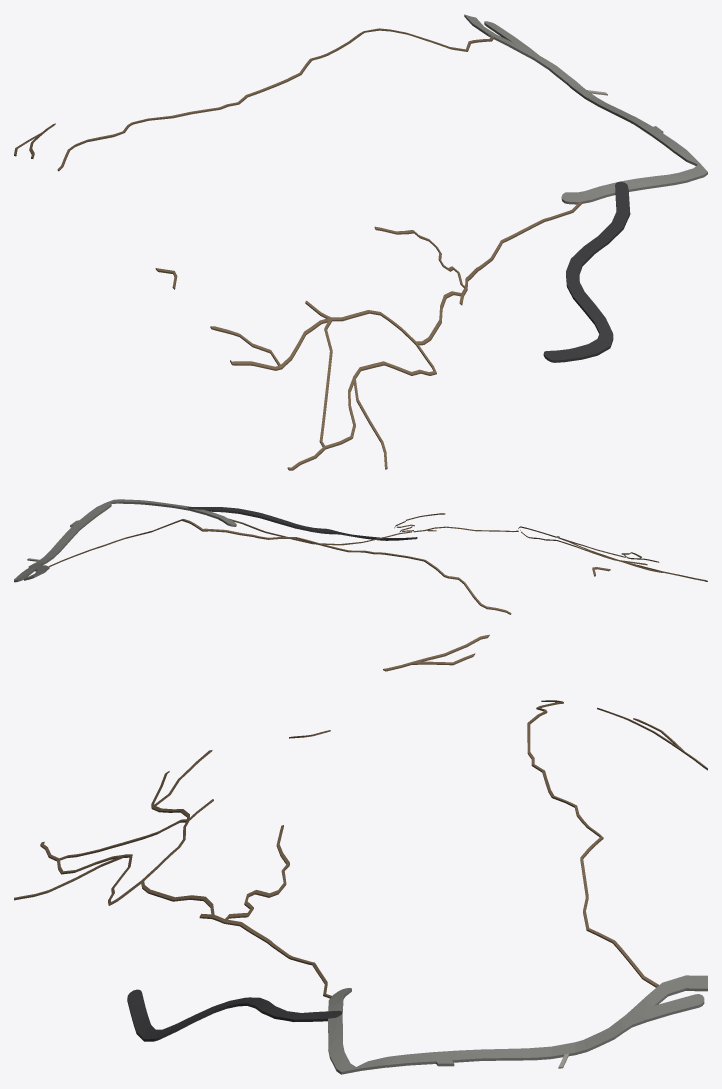
3 renders of one model, top to bottom at view 1: azimuth 30°, elevation 25°; view 2: azimuth 150°, elevation 25°; view 3: azimuth 270°, elevation 25°, orthographic. The views are drawn at different scales.
Size of the model in its own units: 293 by 90.95 by 292.
